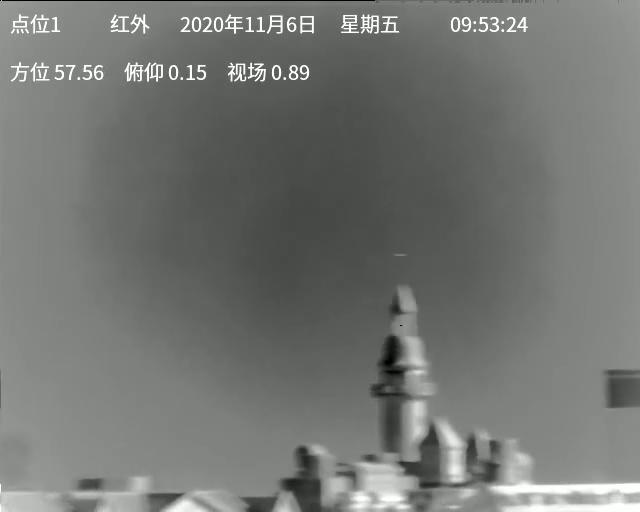uav: (394, 251, 408, 259)
